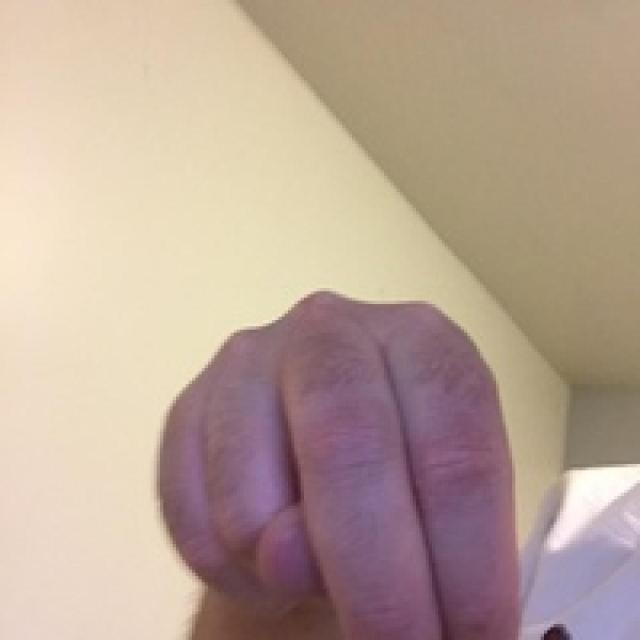N: (141, 267, 624, 640)
